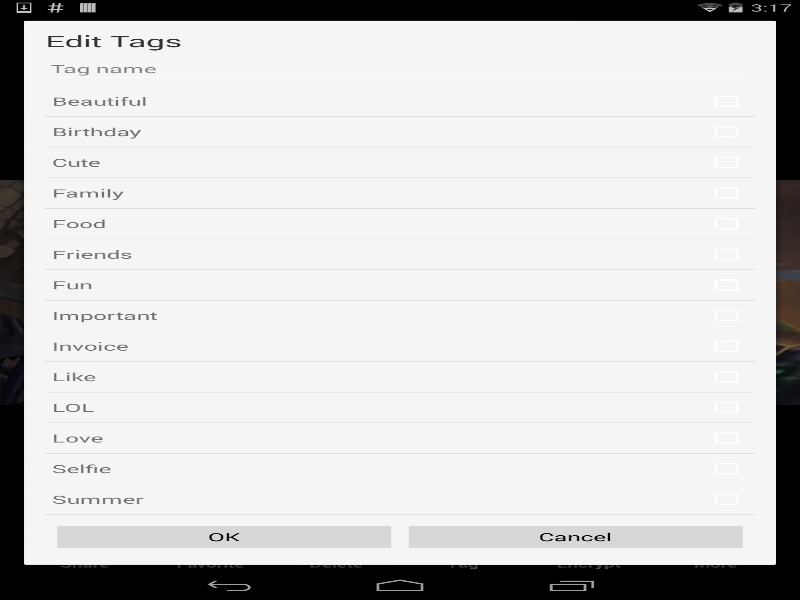Button: (403, 521, 748, 551), (52, 521, 396, 551)
Input: (45, 54, 754, 83)
